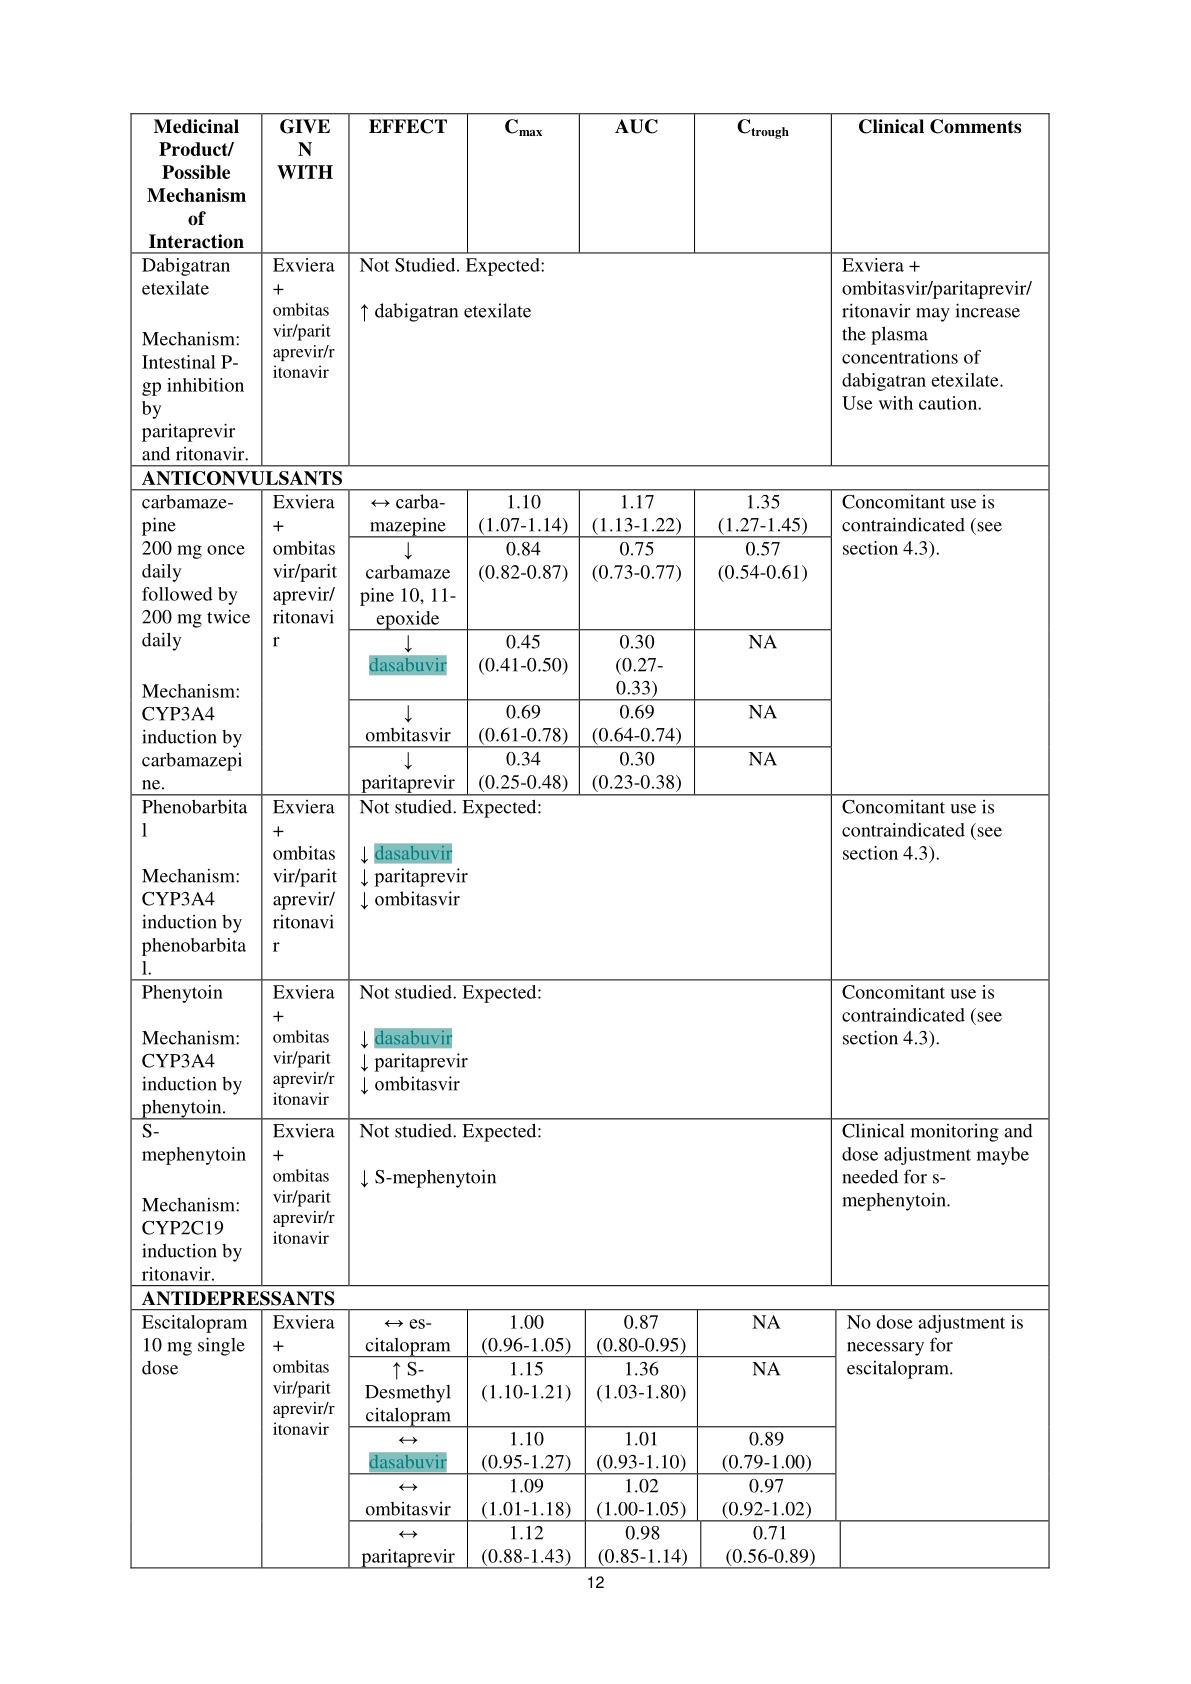merged_cells: (128, 111, 1051, 1571)
